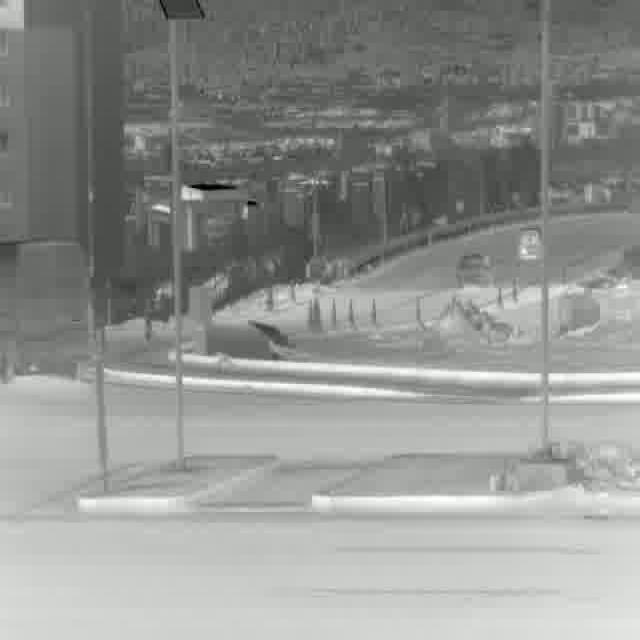Car: (0, 242, 90, 377), (454, 253, 494, 290), (514, 225, 544, 267)
